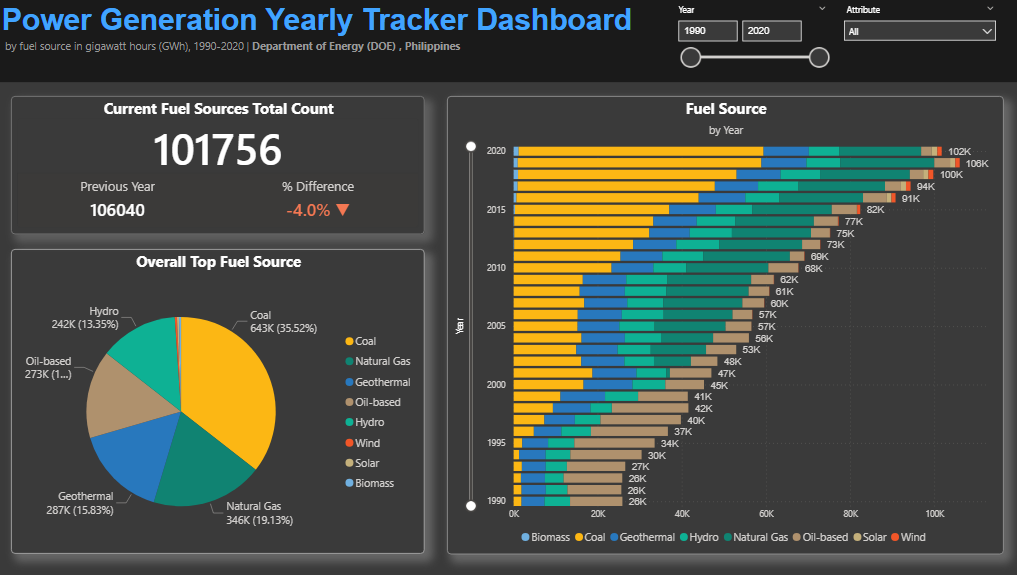

What the dashboard file says about the page in this screenshot:
{"tool":"powerbi","page":{"name":"Fuel Source Tracker","canvas":[1280,720],"ordinal":0},"visuals":[{"type":"shape","box":[0,0,1280,104.3],"z":0},{"type":"textbox","box":[0,0,861.2,56.2],"z":1000},{"type":"textbox","box":[3.3,45.3,786.3,40.9],"z":2000},{"type":"slicer","fields":{"Values":["Department of Energy Yearly Dat.Years"]},"box":[837.1,0,210,104.3],"z":3000},{"type":"slicer","fields":{"Values":["Department of Energy Yearly Dat.Attribute"]},"box":[1047.1,0,210,104.3],"z":4000},{"type":"barChart","title":"Fuel Source","fields":{"Category":["Department of Energy Yearly Dat.Years"],"Series":["Department of Energy Yearly Dat.Attribute"],"Y":["Sum(Department of Energy Yearly Dat.Value)"]},"box":[561.4,121.4,695.7,572.9],"z":5000},{"type":"pieChart","title":"Overall Top Fuel Source","fields":{"Category":["Department of Energy Yearly Dat.Attribute"],"Y":["Sum(Department of Energy Yearly Dat.Value)"]},"box":[15.7,312.9,517.1,381.4],"z":6000},{"type":"cardVisual","title":"Current Fuel Sources Total Count","fields":{"Data":["Department of Energy Yearly Dat.Total Power Latest Year"]},"box":[15.7,121.4,517.1,172.9],"z":7000}]}

Visuals, with their boxes in screenshot pixels (x1, y1, x2, y2), scaled from the page's 1280x720 canvas onto the 1017x575 screenshot:
shape: 0 0 1016 83
textbox: 0 0 684 45
textbox: 3 36 627 69
slicer - Department of Energy Yearly Dat.Years: 665 0 832 83
slicer - Department of Energy Yearly Dat.Attribute: 832 0 999 83
"Fuel Source" barChart: 446 97 999 554
"Overall Top Fuel Source" pieChart: 12 250 423 554
"Current Fuel Sources Total Count" cardVisual: 12 97 423 235
